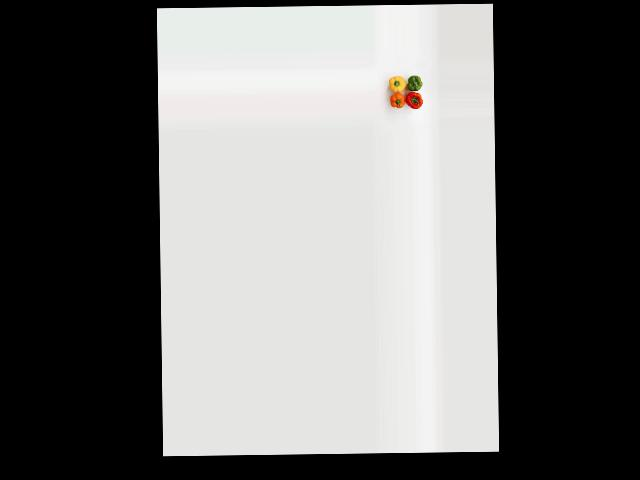bell_pepper: (405, 70, 423, 94)
